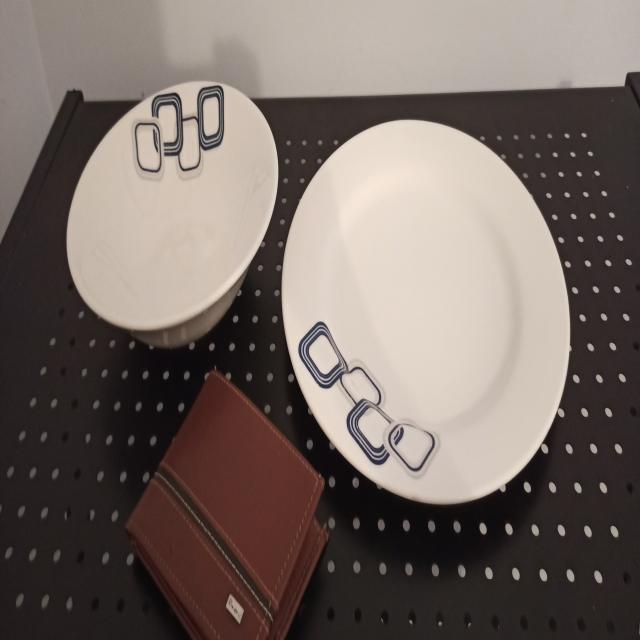non-organic waste: (275, 66, 576, 484), (51, 75, 279, 370)
